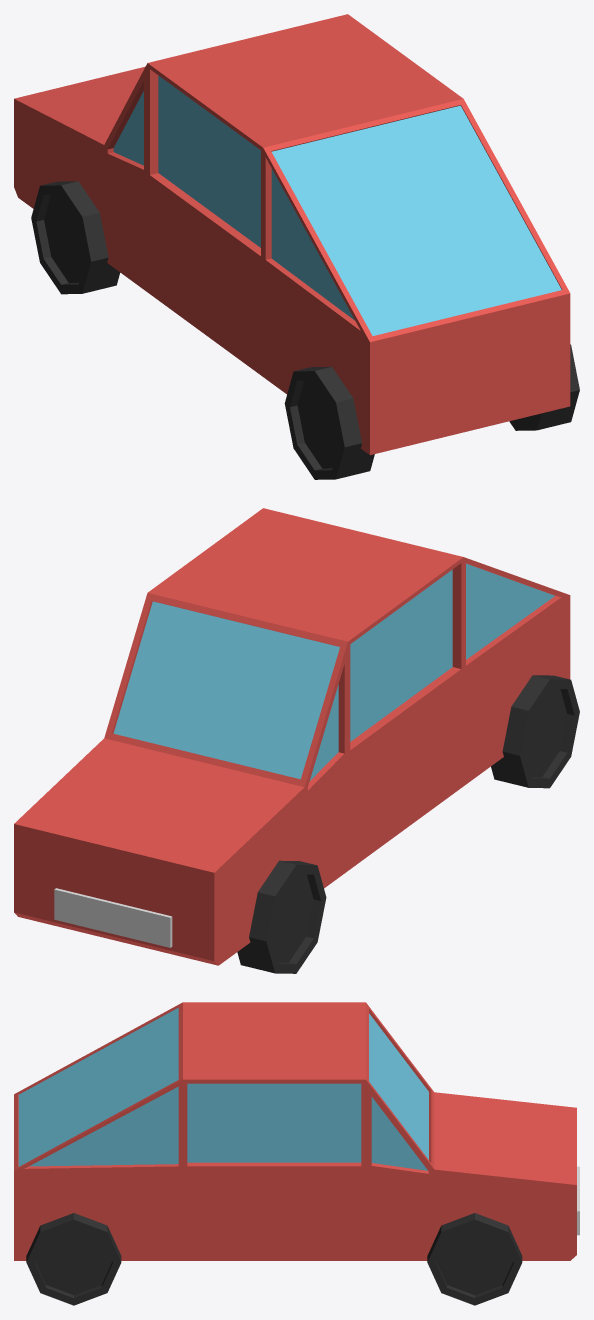
File: car.fbx
3 views of the same model, one above another, from view 1: azimuth 30°, elevation 25°; view 2: azimuth 150°, elevation 25°; view 3: azimuth 270°, elevation 25° (orthographic). The views are drawn at different scales.
Visible parts, largest first — view 1: Cube, Cube.001; view 2: Cube, Cube.001, Cube.002; view 3: Cube, Cube.001.
Boxes of the visible parts, x1,y1,x2,y2 form: Cube: (14, 14, 570, 455); Cube.001: (31, 181, 579, 479); Cube: (14, 508, 570, 965); Cube.001: (237, 675, 579, 973); Cube.002: (54, 888, 172, 947); Cube: (14, 1002, 576, 1260); Cube.001: (26, 1213, 522, 1305).
Size of the model in its own units: 235 by 265 by 619.
